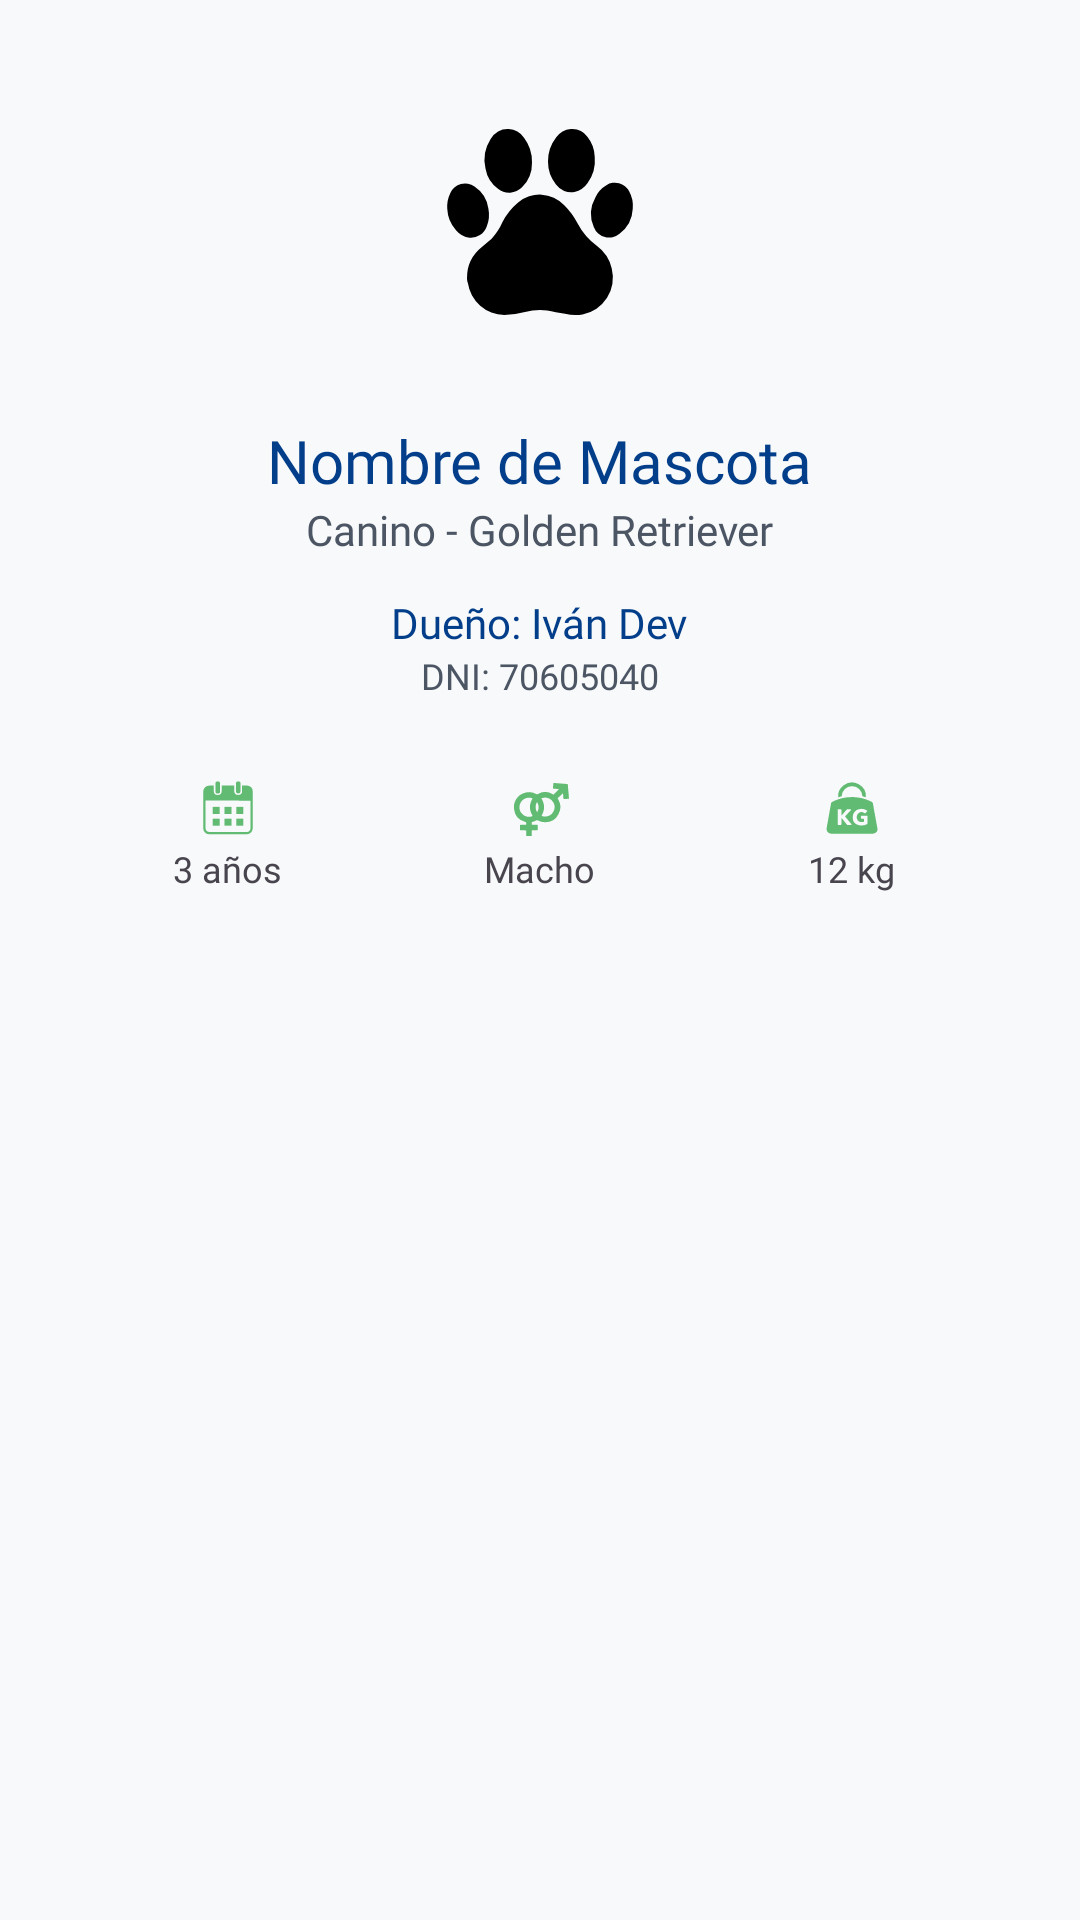

Named icons in this screenshot (1080x1920) and their bounding boxes, region(x1, y1, x2, y2):
calendar: region(203, 781, 253, 835)
gender: region(514, 783, 569, 836)
pet: region(447, 129, 633, 315)
weight: region(826, 782, 878, 834)
